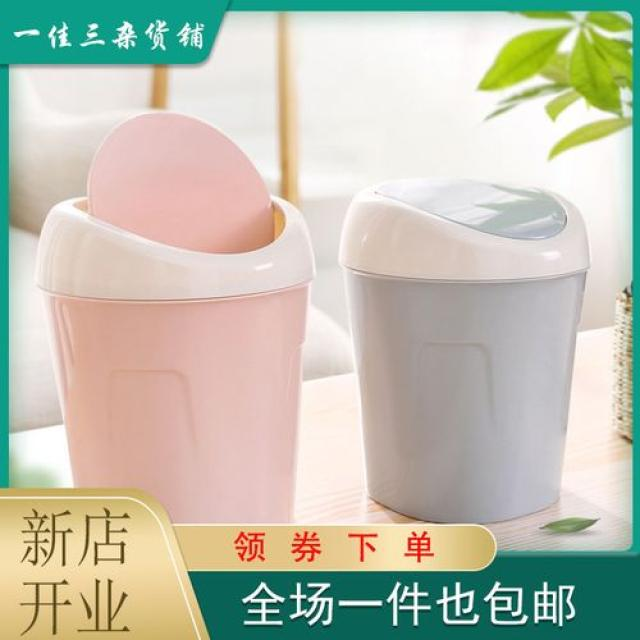dustbin: (30, 103, 322, 533)
